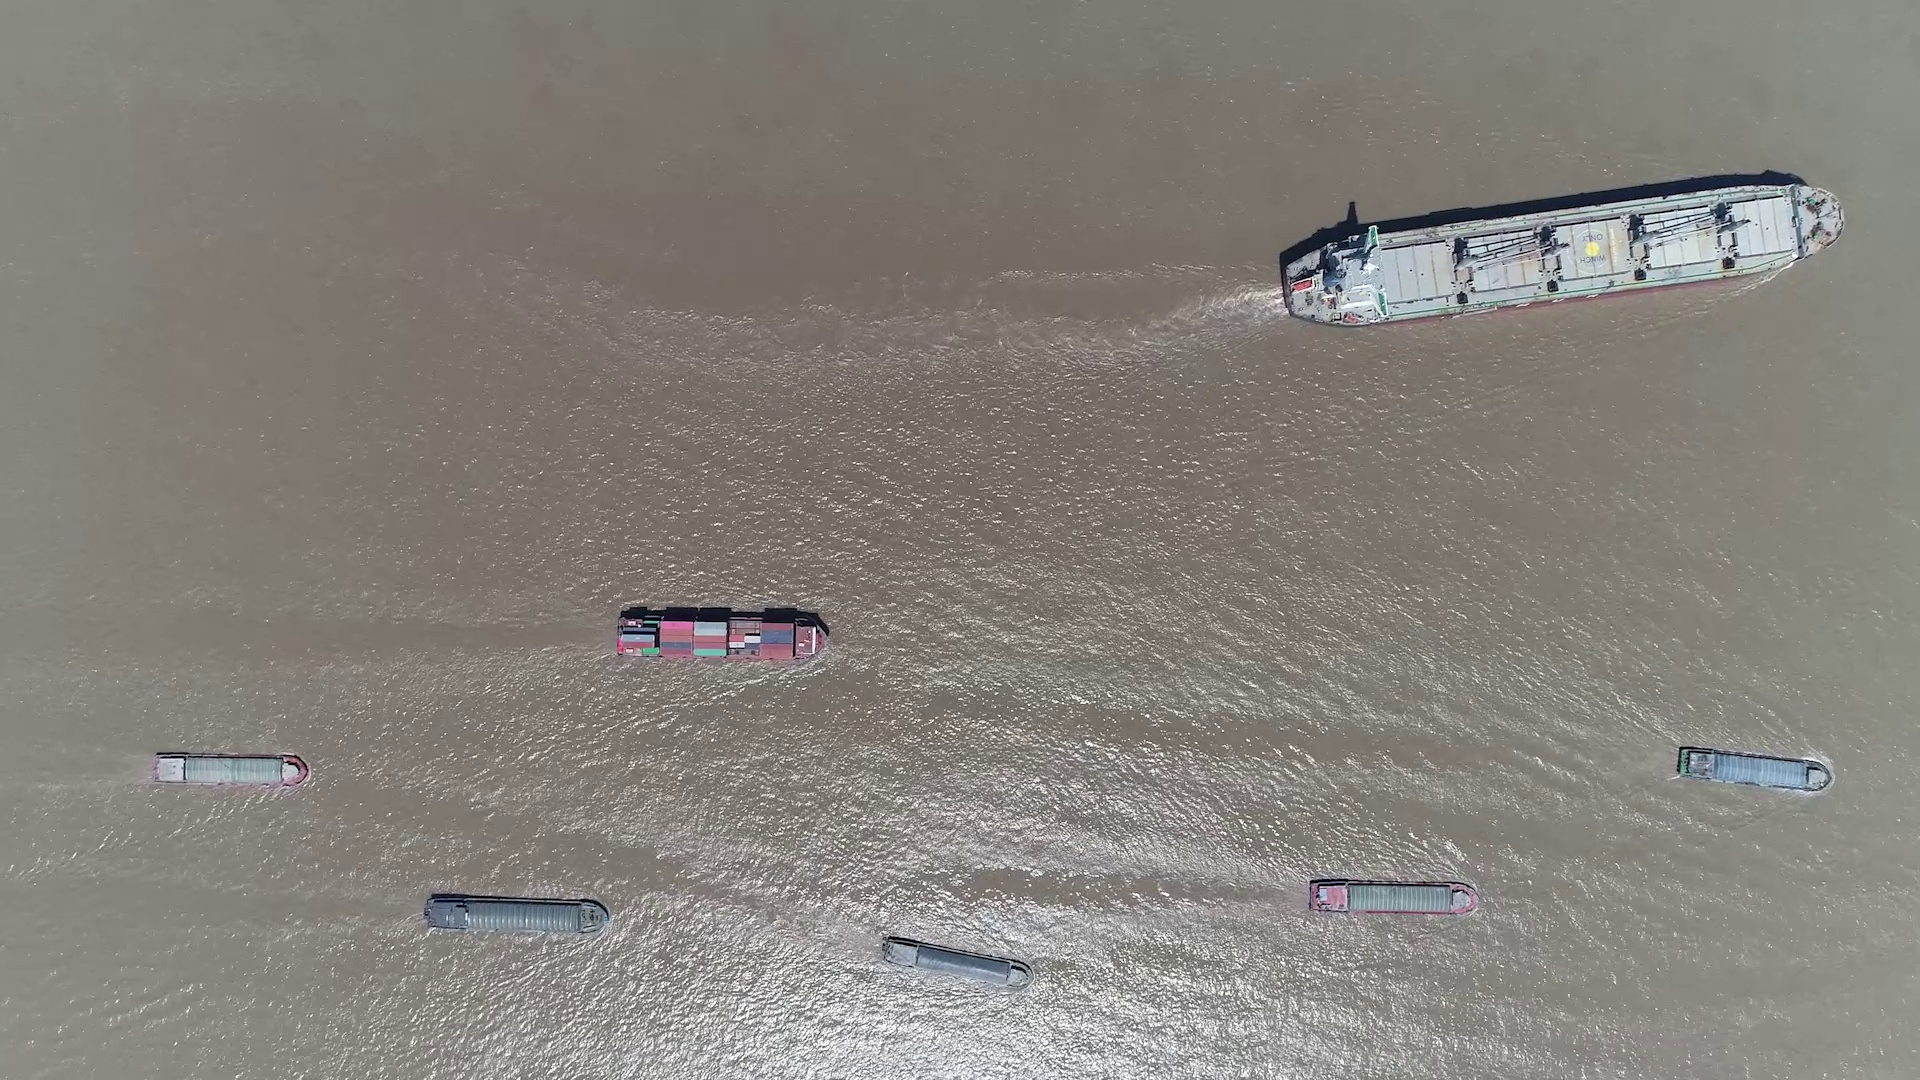ship: (1279, 183, 1845, 326), (617, 613, 827, 665), (880, 938, 1030, 988), (423, 894, 609, 934), (1676, 746, 1832, 793), (1309, 878, 1477, 916), (150, 753, 309, 787)
